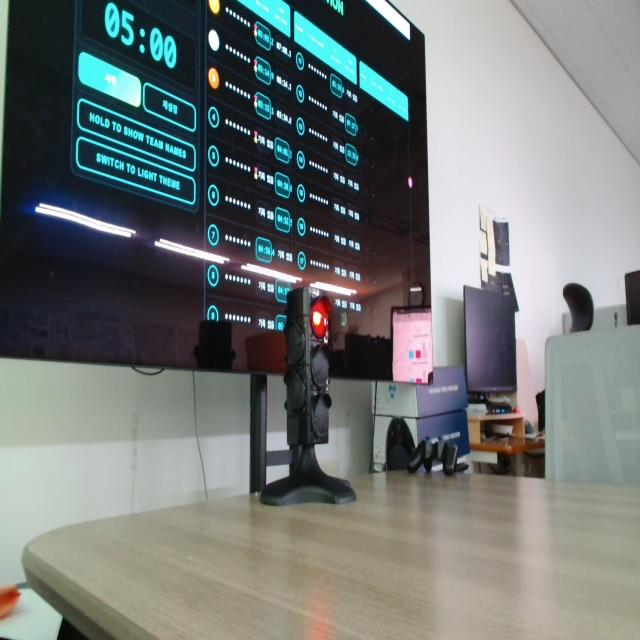red_light: (311, 297, 329, 339)
